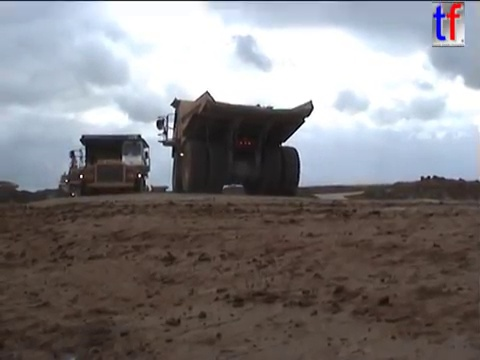excavator: (56, 147, 97, 198)
truck: (153, 88, 318, 197), (67, 131, 153, 200)
